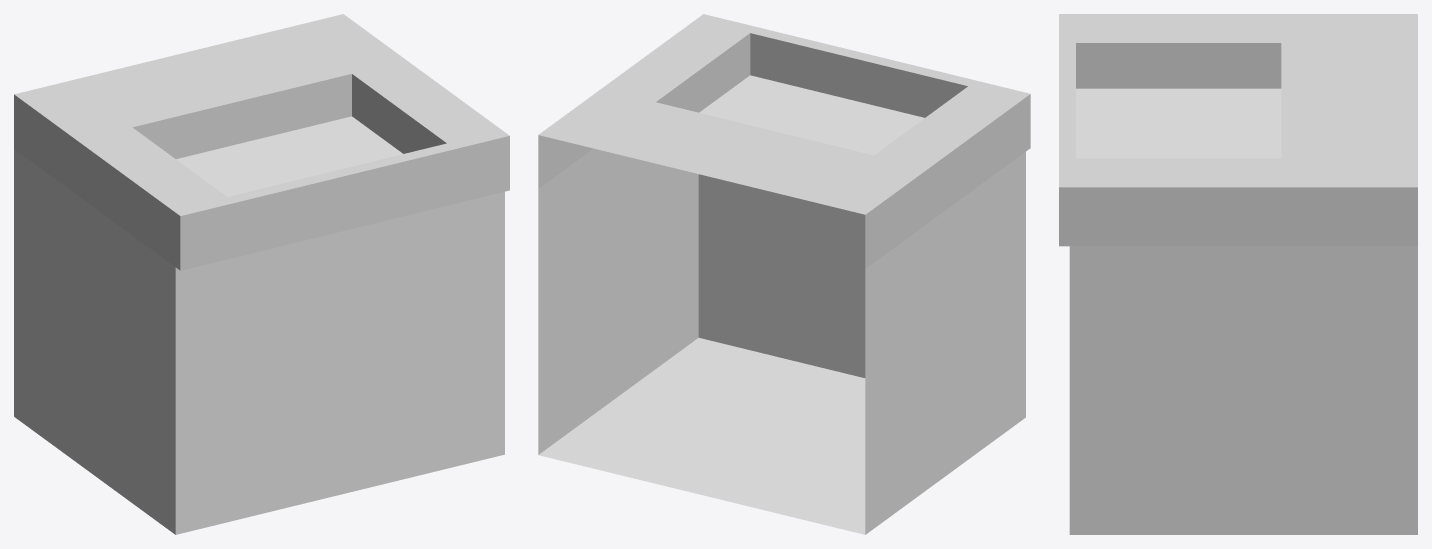
The model's file is table_f.fbx.
3 views of the same model, side by side, from view 1: azimuth 30°, elevation 25°; view 2: azimuth 150°, elevation 25°; view 3: azimuth 270°, elevation 25° (orthographic). The views are drawn at different scales.
Parts seen in each view (by area): view 1: table_f; view 2: table_f; view 3: table_f.
Part boxes in pixels (x1,y1,x2,y2): table_f: (14,14,509,534); table_f: (538,14,1030,534); table_f: (1059,14,1417,534).
Bounding box in the file's own units: 1 × 0.935 × 0.875.
